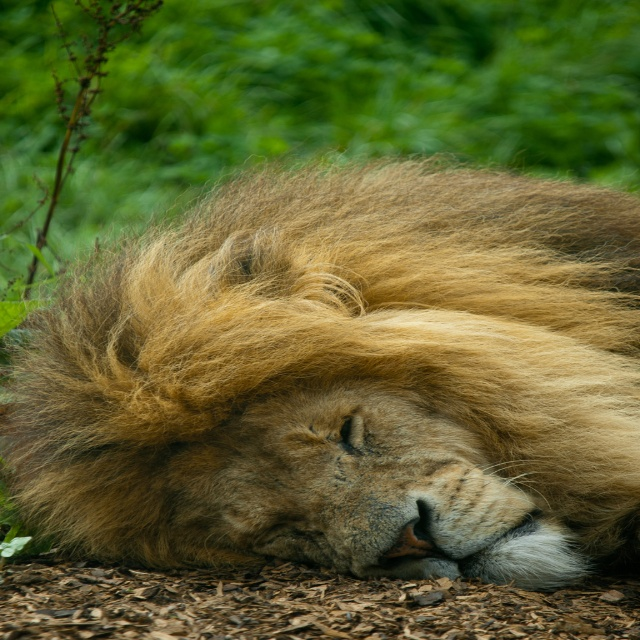Lion: (0, 145, 639, 595)
